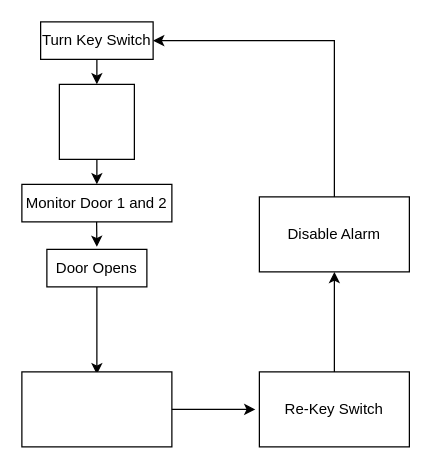
The diagram is 431 pixels wide and 469 high, and some of its shapes have lost their labels. Each missing label, with the centre of its shape:
Armed: the point at 96,121
Sound Alarm!: the point at 96,409
